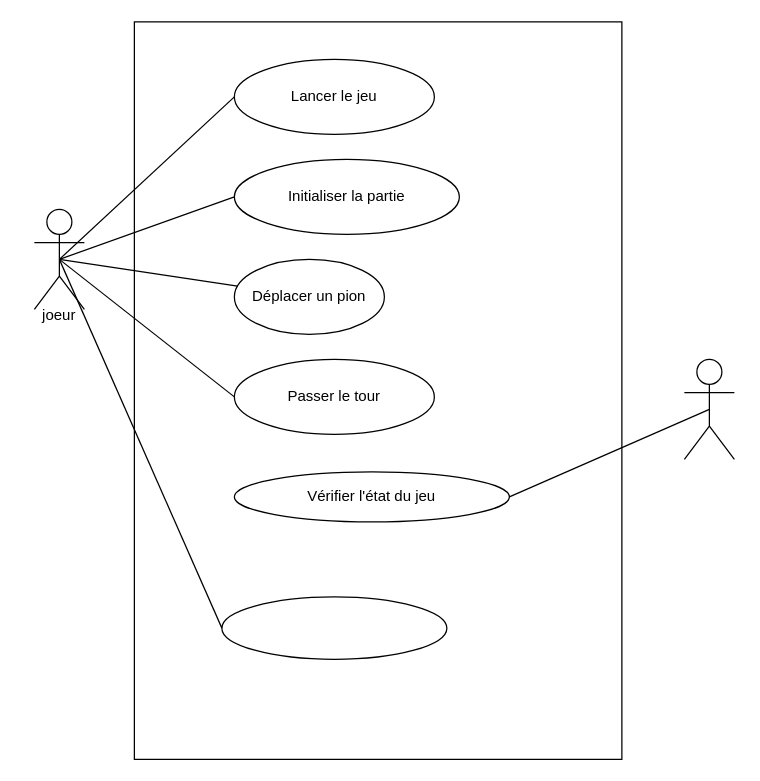
Some shapes in this 760 by 781 pixel diagram are drawn without their labels. Here are the shapes that lost their labels. From the top down, the box of each, then its label:
(683, 358, 734, 459): Système
(221, 596, 447, 659): Afficher le score / Rejouer.
